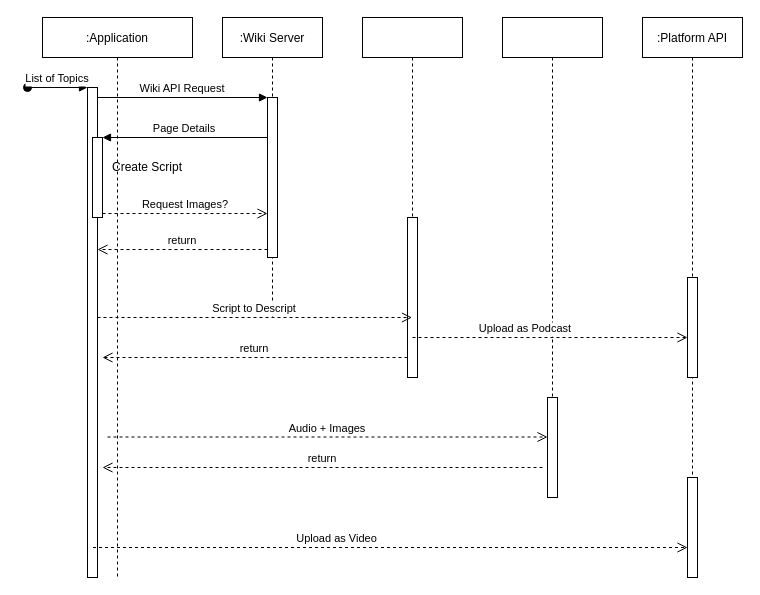
Image size: 760x595. Some labels were removed from this diagram. The box of each missing label's shape, as (x1, y1, x2, y2) in pixels:
:Descript: (362, 16, 462, 318)
:Video Editing API: (502, 16, 602, 398)
